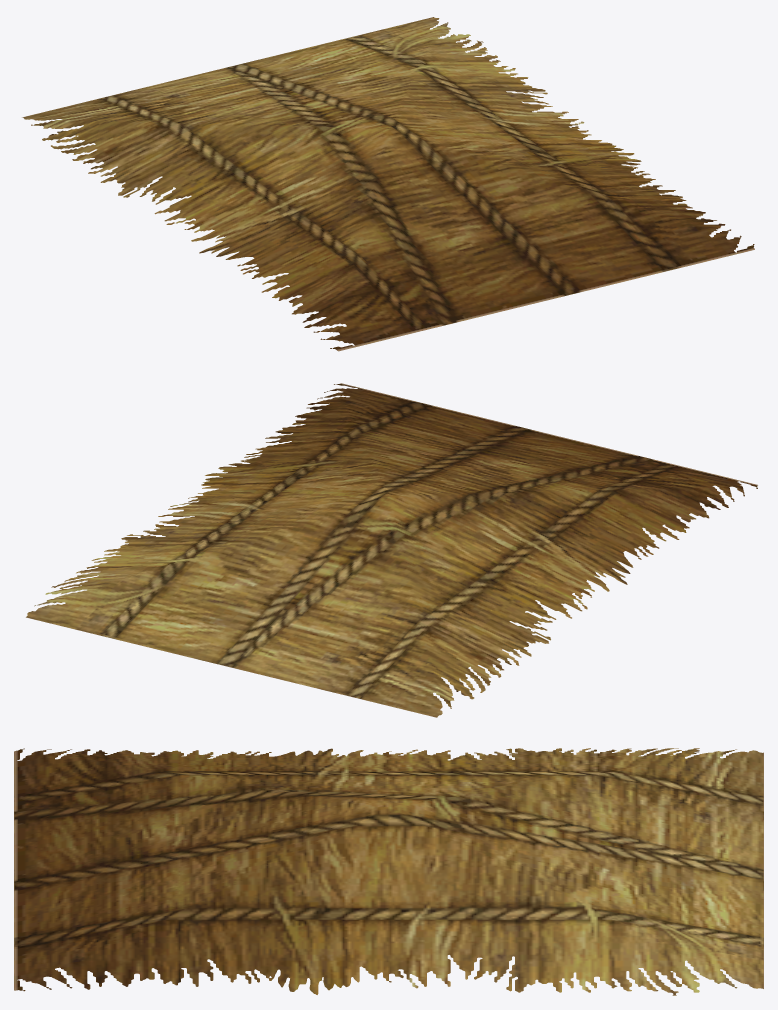
Rendered from environment_common_daocao_01_a.FBX.
The picture shows the model from 3 angles, top to bottom: view 1: azimuth 30°, elevation 25°; view 2: azimuth 150°, elevation 25°; view 3: azimuth 270°, elevation 25°; orthographic projection. The views are drawn at different scales.
Visible parts, largest first — view 1: environment_common_daocao_01_a; view 2: environment_common_daocao_01_a; view 3: environment_common_daocao_01_a.
Part boxes in pixels (x1,y1,x2,y2): environment_common_daocao_01_a: [22, 17, 754, 351]; environment_common_daocao_01_a: [26, 383, 757, 717]; environment_common_daocao_01_a: [14, 748, 763, 995].
Size of the model in its own units: 311 by 37.12 by 398.
